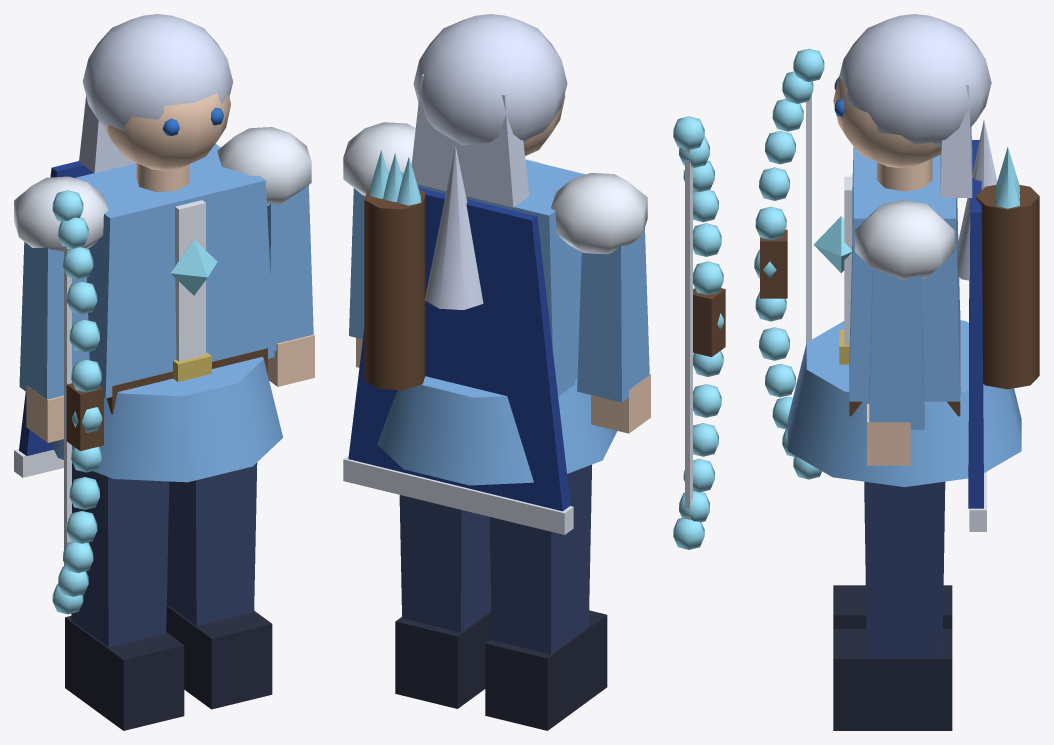
The picture shows the model from 3 angles, left to right: view 1: azimuth 30°, elevation 25°; view 2: azimuth 150°, elevation 25°; view 3: azimuth 270°, elevation 25°; orthographic projection. The views are drawn at different scales.
Parts seen in each view (by area): view 1: part2, part1, part0, part5, part8, part6, part7, part3, part10, part4; view 2: part2, part10, part8, part1, part5, part0, part3, part6, part7; view 3: part2, part8, part1, part3, part0, part6, part5, part7, part10.
Boxes of the visible parts, x1,y1,x2,y2 form: part2: (19,144,313,482); part1: (71,462,257,647); part0: (65,605,272,730); part5: (14,127,311,566); part8: (79,14,232,173); part6: (52,190,217,614); part7: (26,93,314,442); part3: (66,348,267,450); part10: (19,161,93,455); part4: (173,352,211,381); part2: (349,159,649,485); part10: (348,187,570,511); part8: (411,14,567,309); part1: (399,464,591,654); part5: (343,122,692,534); part0: (395,610,607,730); part3: (364,189,725,390); part6: (369,116,723,549); part7: (356,94,650,433); part2: (787,147,1021,487); part8: (839,14,997,280); part1: (864,481,945,658); part3: (760,185,1039,416); part0: (833,585,952,730); part6: (754,48,1019,479); part5: (806,81,986,531); part7: (833,76,941,465); part10: (968,140,983,508).
Bounding box in the file's own units: 0.8905 × 1.87 × 0.719.
